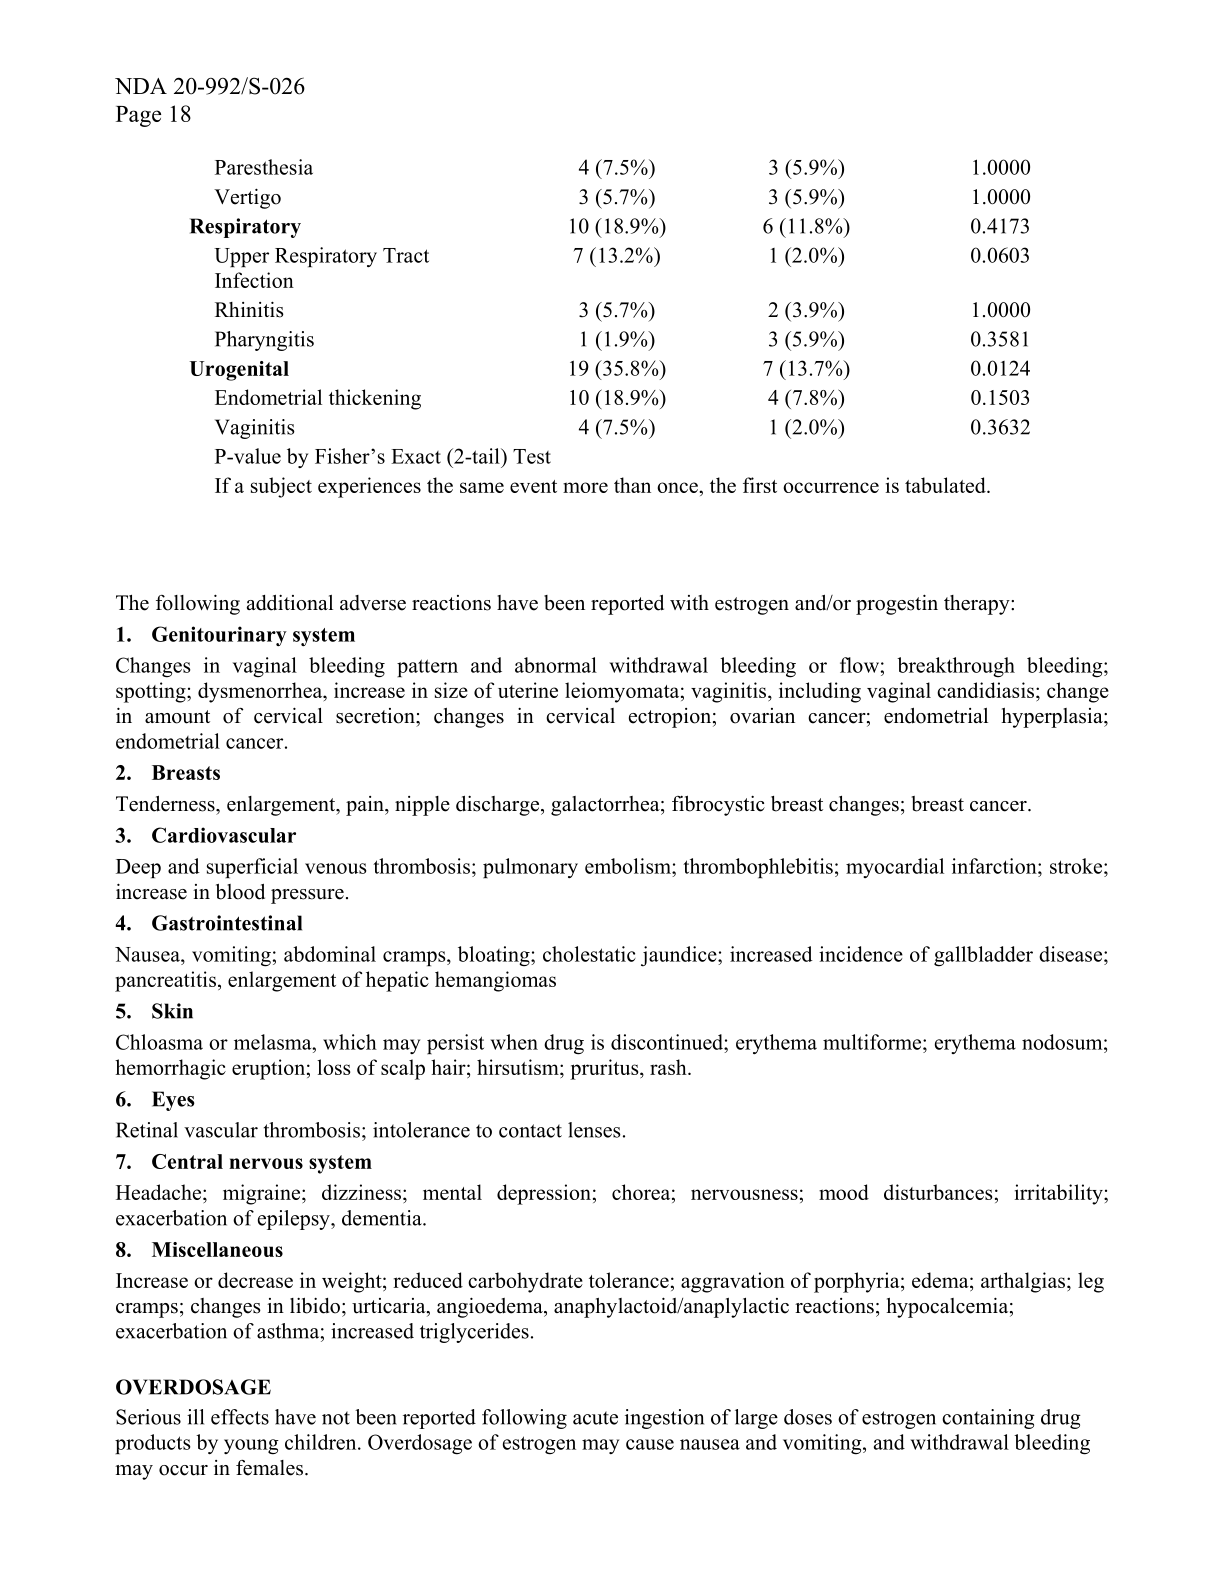nolines: (188, 154, 1032, 501)
